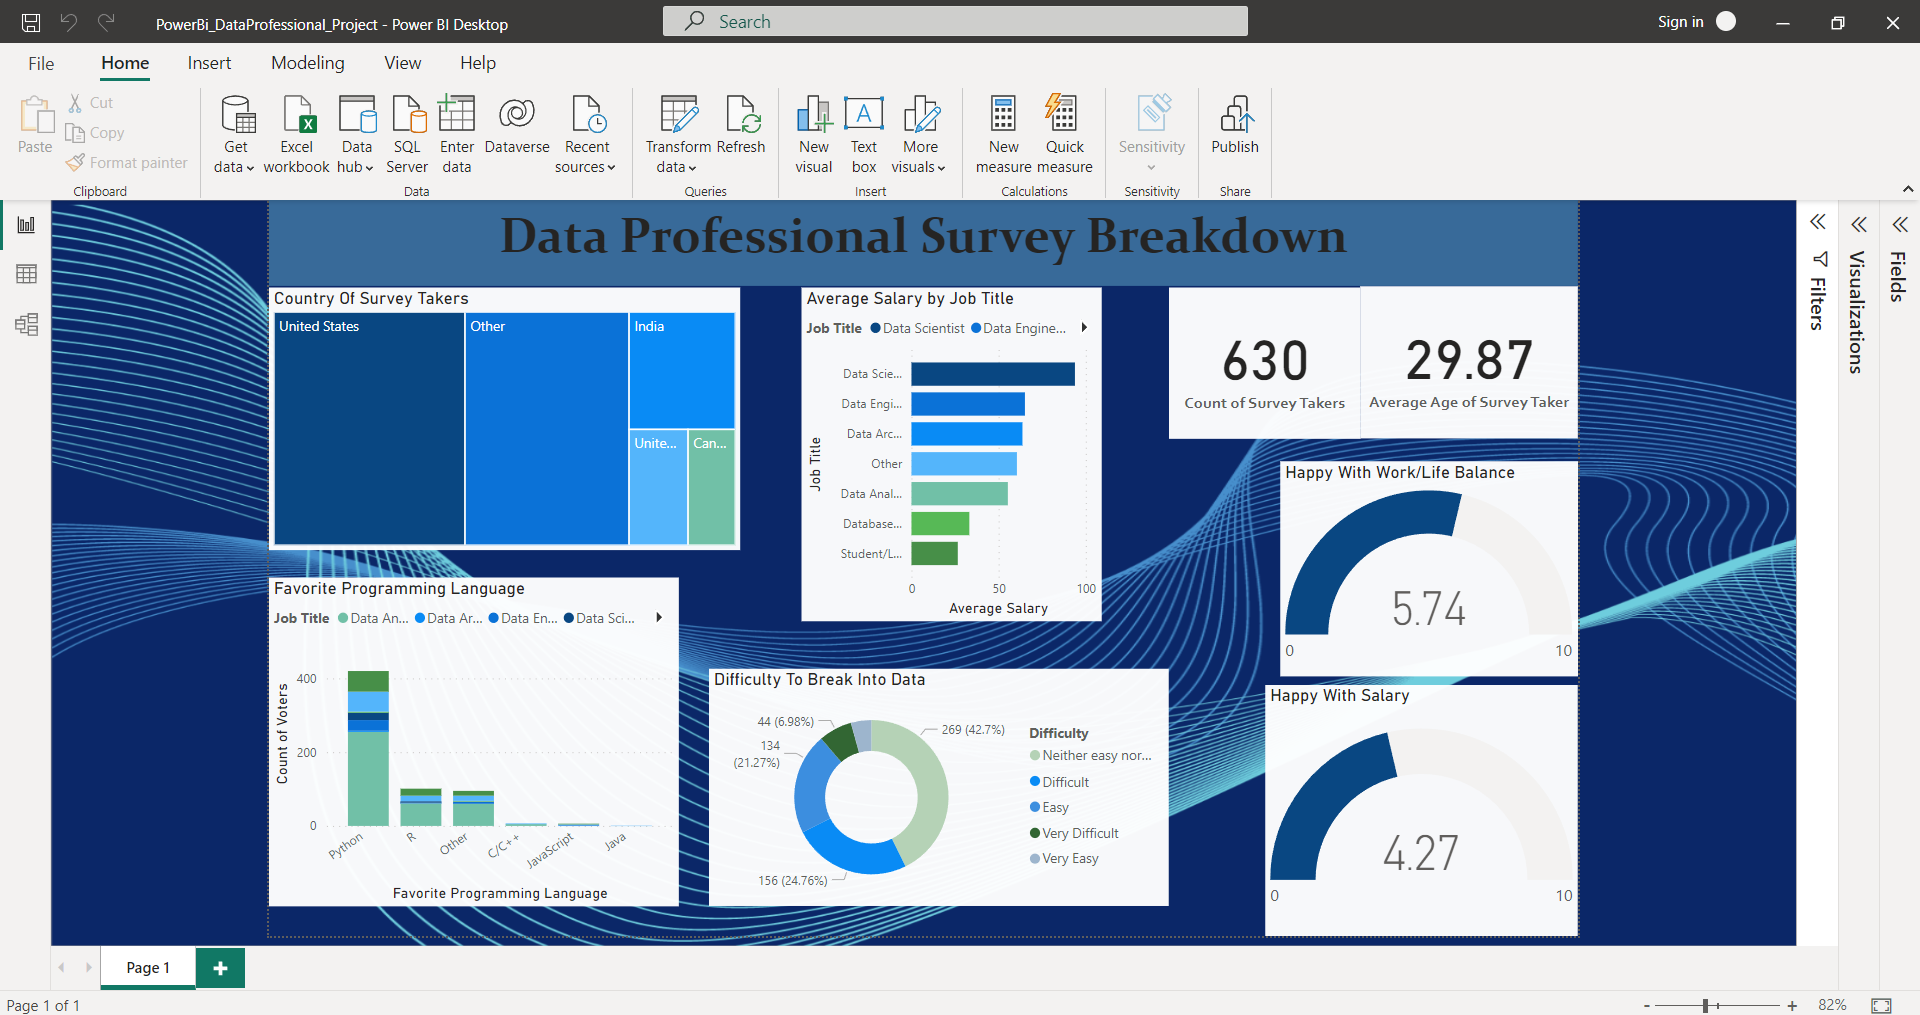

The page's visual inventory and layout, read from the dashboard file:
{"tool":"powerbi","page":{"name":"Page 1","canvas":[1280,720],"ordinal":0},"visuals":[{"type":"textbox","box":[0,0,1280,83.8],"z":0},{"type":"card","fields":{"Values":["CountNonNull(Data Professional Survey.Unique ID)"]},"box":[880.1,85.6,187,147.9],"z":1},{"type":"card","fields":{"Values":["Avg(Data Professional Survey.Q10 - Current Age)"]},"box":[1067.2,84.3,212.7,149.1],"z":2},{"type":"barChart","title":"Average Salary by Job Title","fields":{"Category":["Data Professional Survey.Q1 - Which Title Best Fits your Current Role?.1"],"Y":["Avg(Data Professional Survey.Average Salary)"],"Series":["Data Professional Survey.Q1 - Which Title Best Fits your Current Role?.1"]},"box":[520.7,85.6,293.4,326.4],"z":3},{"type":"columnChart","title":"Favorite Programming Language","fields":{"Category":["Data Professional Survey.Q5 - Favorite Programming Language.1"],"Y":["CountNonNull(Data Professional Survey.Unique ID)"],"Series":["Data Professional Survey.Q1 - Which Title Best Fits your Current Role?.1"]},"box":[0,369.2,401,321.5],"z":4},{"type":"treemap","title":"Country Of Survey Takers","fields":{"Group":["Data Professional Survey.Q11 - Which Country do you live in?.1"],"Values":["CountNonNull(Data Professional Survey.Q11 - Which Country do you live in?.1)"]},"box":[0,85.6,460.8,256.7],"z":5},{"type":"gauge","title":"Happy With Work/Life Balance","fields":{"Y":["Avg(Data Professional Survey.Q6 - How Happy are you in your Current Position with the following? (Work/Life Balance))"],"MinValue":["Min(Data Professional Survey.Q6 - How Happy are you in your Current Position with the following? (Work/Life Balance))1"],"MaxValue":["Max(Data Professional Survey.Q6 - How Happy are you in your Current Position with the following? (Work/Life Balance))2"]},"box":[988.9,255.5,290.9,210.3],"z":6},{"type":"gauge","title":"Happy With Salary","fields":{"Y":["Avg(Data Professional Survey.Q6 - How Happy are you in your Current Position with the following? (Salary))"],"MinValue":["Min(Data Professional Survey.Q6 - How Happy are you in your Current Position with the following? (Salary))"],"MaxValue":["Max(Data Professional Survey.Q6 - How Happy are you in your Current Position with the following? (Salary))1"]},"box":[974.3,474.3,305.6,245.7],"z":7},{"type":"donutChart","title":"Difficulty To Break Into Data","fields":{"Category":["Data Professional Survey.Q7 - How difficult was it for you to break into Data?"],"Y":["CountNonNull(Data Professional Survey.Q7 - How difficult was it for you to break into Data?)"]},"box":[430.3,458.4,449.8,232.3],"z":8}]}

Visuals, with their boxes on the page's 1280x720 design canvas (x1, y1, x2, y2). These are canvas units, not pixel positions in the 1920x1015 screenshot, which may show the page scaled, cropped or inside an application window:
textbox: (x1=0, y1=0, x2=1280, y2=84)
card - CountNonNull(Data Professional Survey.Unique ID): (x1=880, y1=86, x2=1067, y2=234)
card - Avg(Data Professional Survey.Q10 - Current Age): (x1=1067, y1=84, x2=1280, y2=233)
"Average Salary by Job Title" barChart: (x1=521, y1=86, x2=814, y2=412)
"Favorite Programming Language" columnChart: (x1=0, y1=369, x2=401, y2=691)
"Country Of Survey Takers" treemap: (x1=0, y1=86, x2=461, y2=342)
"Happy With Work/Life Balance" gauge: (x1=989, y1=256, x2=1280, y2=466)
"Happy With Salary" gauge: (x1=974, y1=474, x2=1280, y2=720)
"Difficulty To Break Into Data" donutChart: (x1=430, y1=458, x2=880, y2=691)
